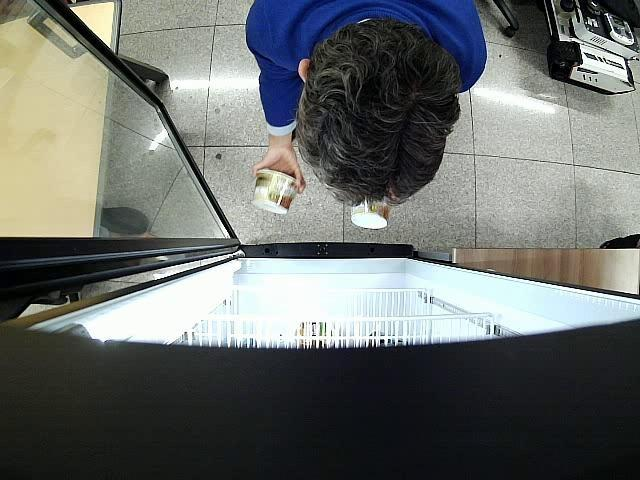03_chapagetti_L: (251, 170, 299, 214)
